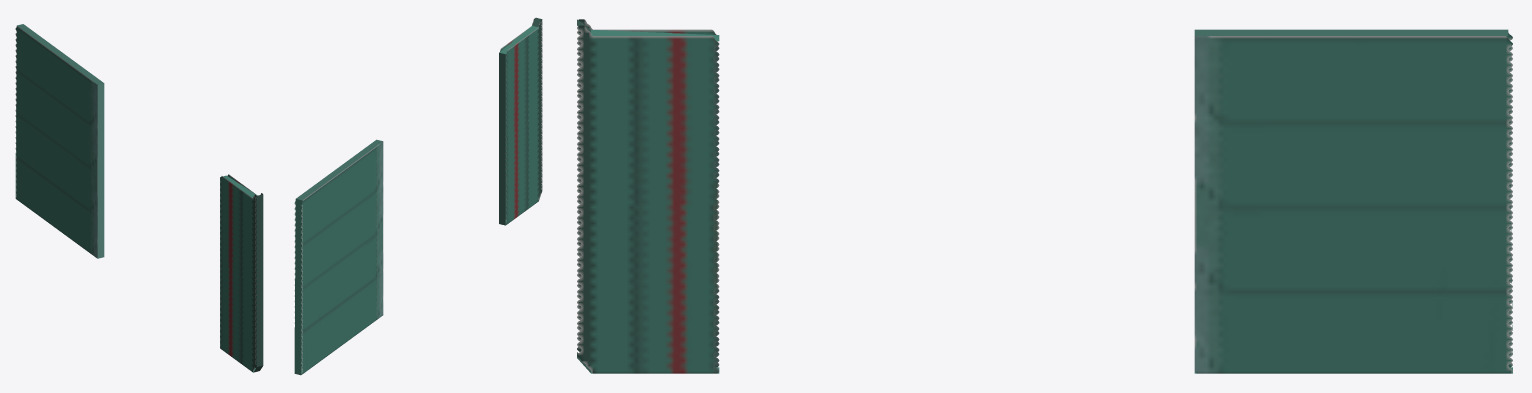
The model's file is pz_native_location_restaurant_diner_01_16_frame.obj.
3 views of the same model, side by side, from view 1: azimuth 30°, elevation 25°; view 2: azimuth 150°, elevation 25°; view 3: azimuth 270°, elevation 25° (orthographic). The views are drawn at different scales.
Parts seen in each view (by area): view 1: pz_native_location_restaurant_diner_01_16_frame; view 2: pz_native_location_restaurant_diner_01_16_frame; view 3: pz_native_location_restaurant_diner_01_16_frame.
Part boxes in pixels (<box>): pz_native_location_restaurant_diner_01_16_frame: <box>15,24,263,372</box>; pz_native_location_restaurant_diner_01_16_frame: <box>294,17,542,375</box>; pz_native_location_restaurant_diner_01_16_frame: <box>577,19,1512,373</box>.
Size of the model in its own units: 0.04 by 1.06 by 2.54.
1 material, 1 textured.
